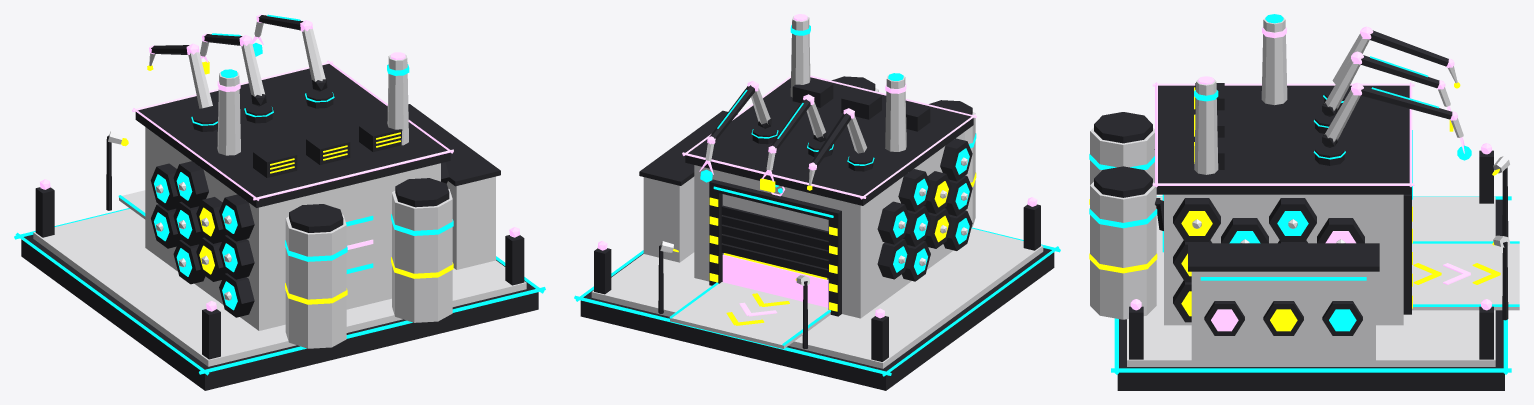
The model's file is AssemblyHive.fbx.
3 renders of one model, left to right at view 1: azimuth 30°, elevation 25°; view 2: azimuth 150°, elevation 25°; view 3: azimuth 270°, elevation 25°, orthographic. The views are drawn at different scales.
Parts seen in each view (by area): view 1: Hive_Roof, Hive_SlabTop, Hive_Hall, Hive_Slab, Hive_Tank-1, Hive_Tank1, HiveMk2_Annex, Hive_SlabGlow, HiveMk2_AnnexRoof, Hive_RoofGlow, Hive_Stack, HiveMk2_Stack (+24 smaller); view 2: Hive_SlabTop, Hive_Roof, Hive_Hall, Hive_Slab, Hive_Apron, HiveMk2_Annex, Hive_BayInterior, Hive_SlabGlow, HiveMk2_AnnexRoof, Hive_DoorLintel, Hive_Stack, Hive_RoofGlow (+29 smaller); view 3: Hive_Roof, HiveMk2_Annex, Hive_SlabTop, Hive_Hall, Hive_Slab, Hive_Tank1, Hive_Apron, HiveMk2_AnnexRoof, Hive_SlabGlow, Hive_RoofGlow, HiveMk2_Stack, Hive_Tank-1 (+33 smaller).
Boxes of the visible parts, bbox=[...] form: Hive_Roof: bbox=[135, 64, 450, 207]; Hive_SlabTop: bbox=[33, 209, 526, 366]; Hive_Hall: bbox=[145, 127, 440, 330]; Hive_Slab: bbox=[21, 235, 538, 390]; Hive_Tank-1: bbox=[285, 214, 346, 348]; Hive_Tank1: bbox=[392, 189, 452, 322]; HiveMk2_Annex: bbox=[447, 176, 495, 269]; Hive_SlabGlow: bbox=[14, 208, 545, 375]; HiveMk2_AnnexRoof: bbox=[408, 104, 500, 186]; Hive_RoofGlow: bbox=[132, 60, 453, 200]; Hive_Stack: bbox=[217, 72, 240, 155]; HiveMk2_Stack: bbox=[387, 54, 408, 145]; Hive_SlabTop: bbox=[591, 228, 1043, 368]; Hive_Roof: bbox=[685, 77, 973, 205]; Hive_Hall: bbox=[694, 131, 964, 318]; Hive_Slab: bbox=[580, 248, 1054, 390]; Hive_Apron: bbox=[670, 282, 830, 348]; HiveMk2_Annex: bbox=[643, 176, 694, 262]; Hive_BayInterior: bbox=[722, 254, 828, 307]; Hive_SlabGlow: bbox=[574, 227, 1060, 376]; HiveMk2_AnnexRoof: bbox=[639, 110, 737, 185]; Hive_DoorLintel: bbox=[709, 179, 841, 221]; Hive_Stack: bbox=[885, 75, 906, 151]; Hive_RoofGlow: bbox=[682, 75, 976, 199]; Hive_Roof: bbox=[1156, 85, 1410, 194]; HiveMk2_Annex: bbox=[1191, 271, 1375, 363]; Hive_SlabTop: bbox=[1127, 196, 1495, 366]; Hive_Hall: bbox=[1164, 194, 1403, 325]; Hive_Slab: bbox=[1117, 199, 1504, 390]; Hive_Tank1: bbox=[1090, 182, 1156, 319]; Hive_Apron: bbox=[1412, 243, 1519, 310]; HiveMk2_AnnexRoof: bbox=[1188, 243, 1379, 271]; Hive_SlabGlow: bbox=[1111, 196, 1511, 374]; Hive_RoofGlow: bbox=[1152, 82, 1414, 187]; HiveMk2_Stack: bbox=[1194, 78, 1218, 174]; Hive_Tank-1: bbox=[1090, 127, 1154, 185].
Size of the model in its own units: 2.28 by 1.56 by 2.33.
